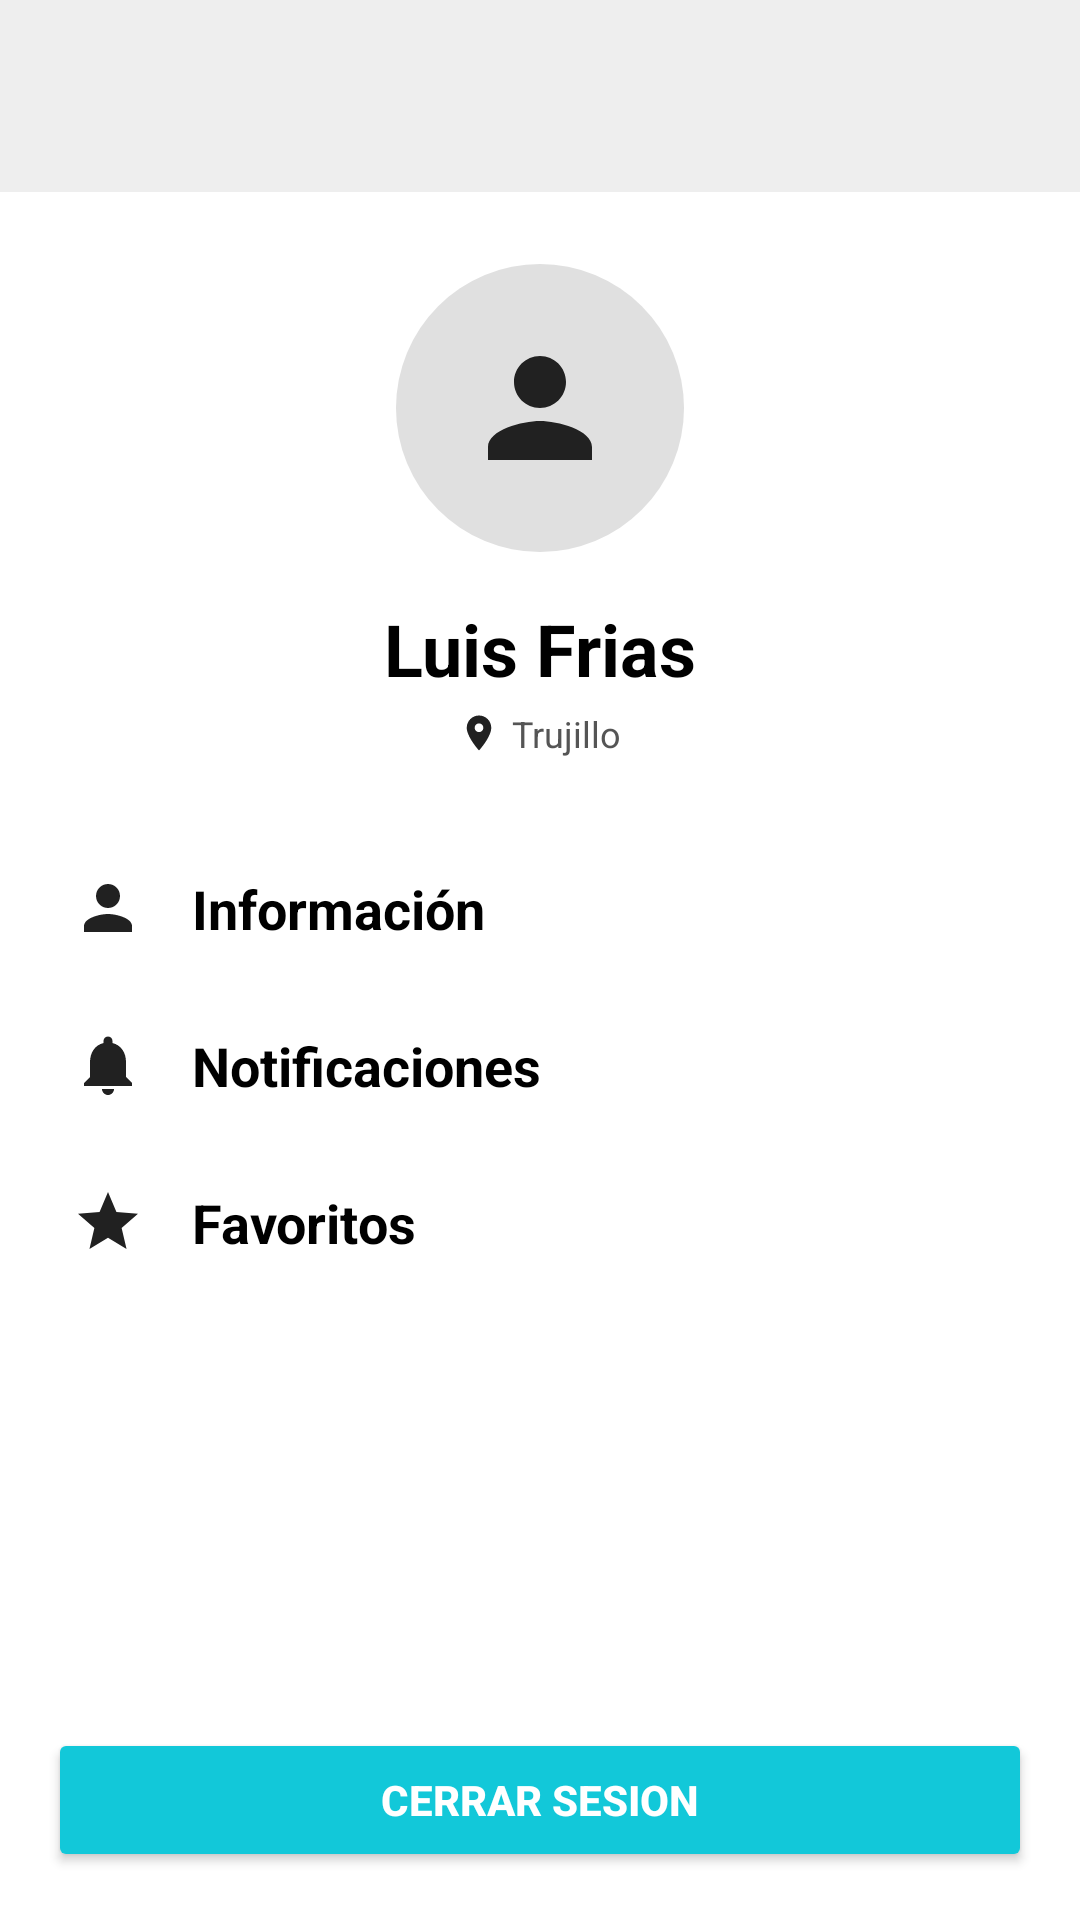

Screen size 1080w x 1920h. Icon name, then its center in pixels as (x,y):
Foto de perfil: (540,408)
